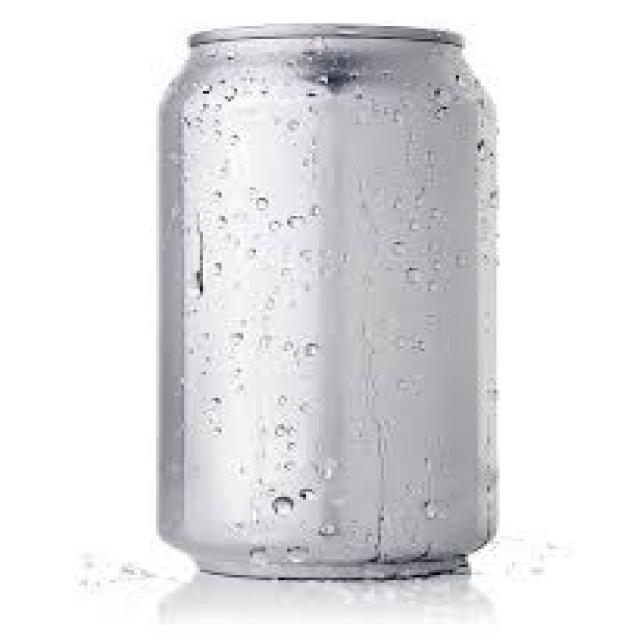Cans: (147, 13, 515, 593)
